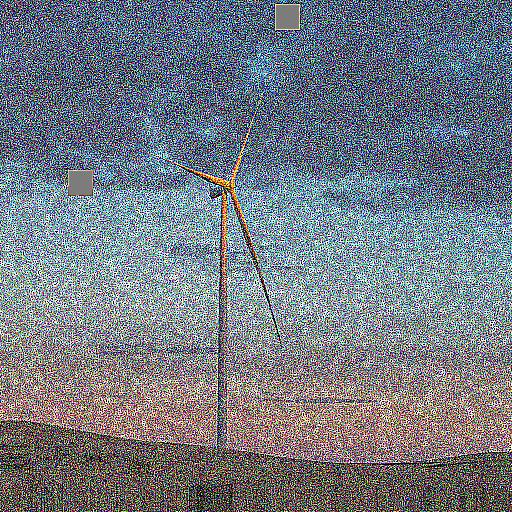wind turbine: (140, 86, 284, 456)
